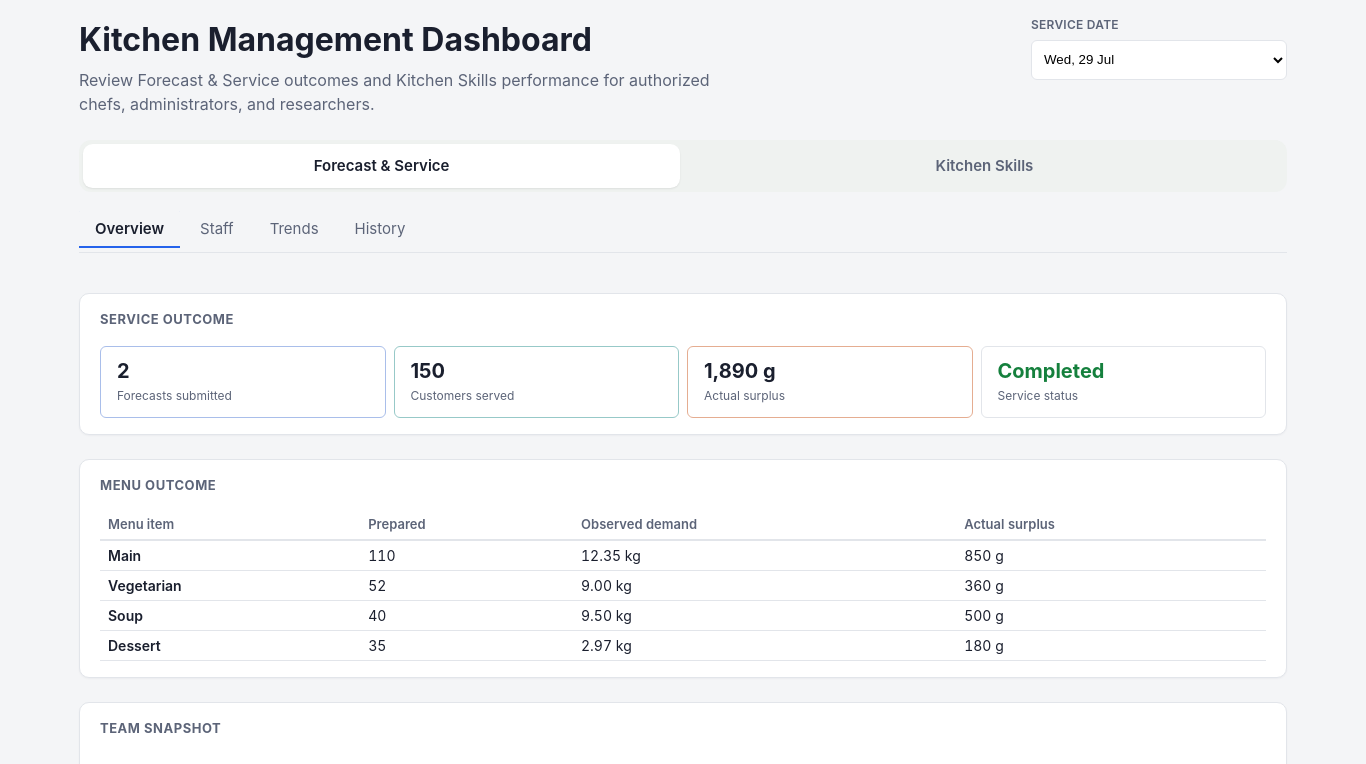
Test: embedded chef results UI › shows real actor names on the admin page
Click the tab with test id "kitchen-mgmt-primary-tab-staff".
click(217, 228)  # box [184,208,250,248]
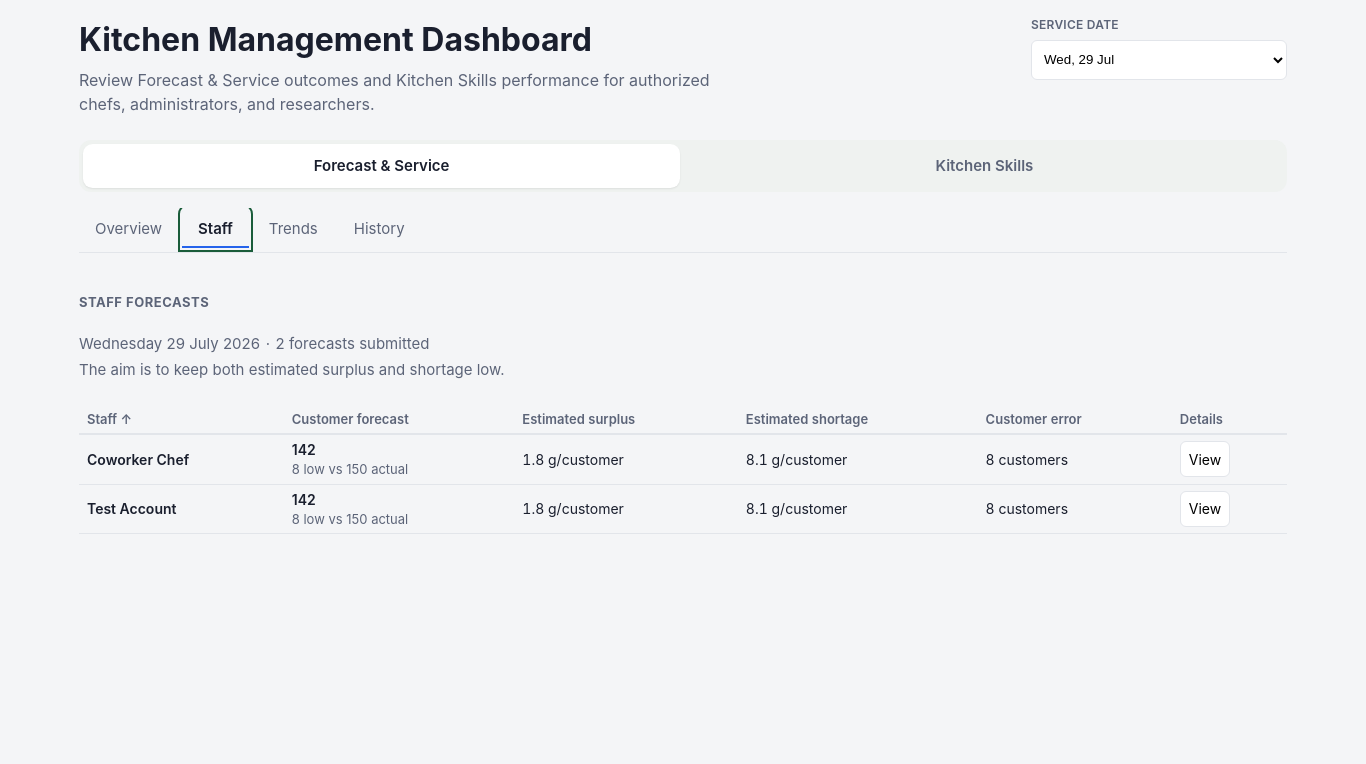
Expected: the column heading with test id "staff-result-name-real-user-abc" reads "Test Account", [87,500,176,517]
Expected: the column heading with test id "staff-result-name-coworker-user" reads "Coworker Chef", [87,451,189,468]
